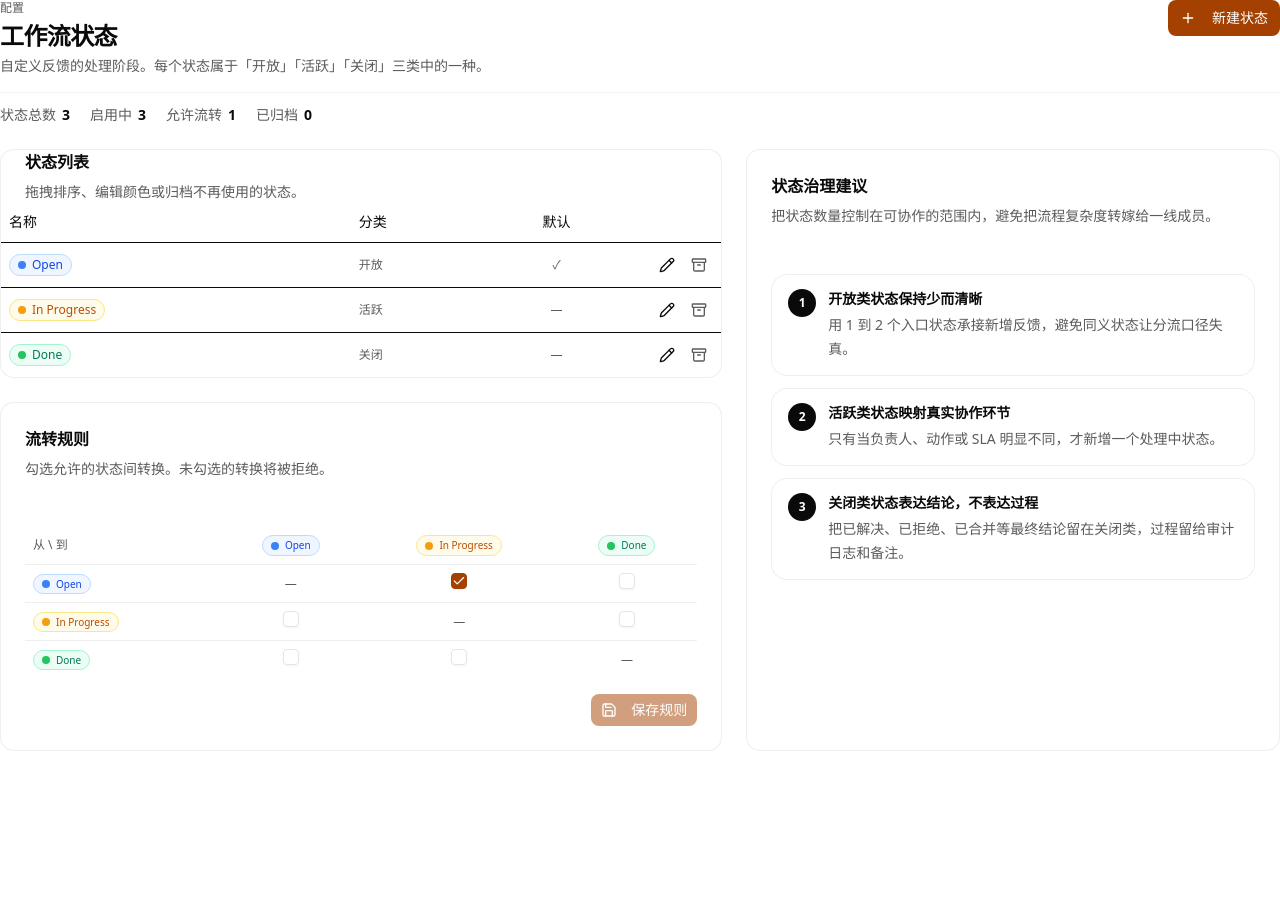
Test: WorkflowSettingsPage › dismisses archive dialog on cancel
Click the 1st button named "归档状态". click: (699, 264)
box: [685, 250, 713, 278]
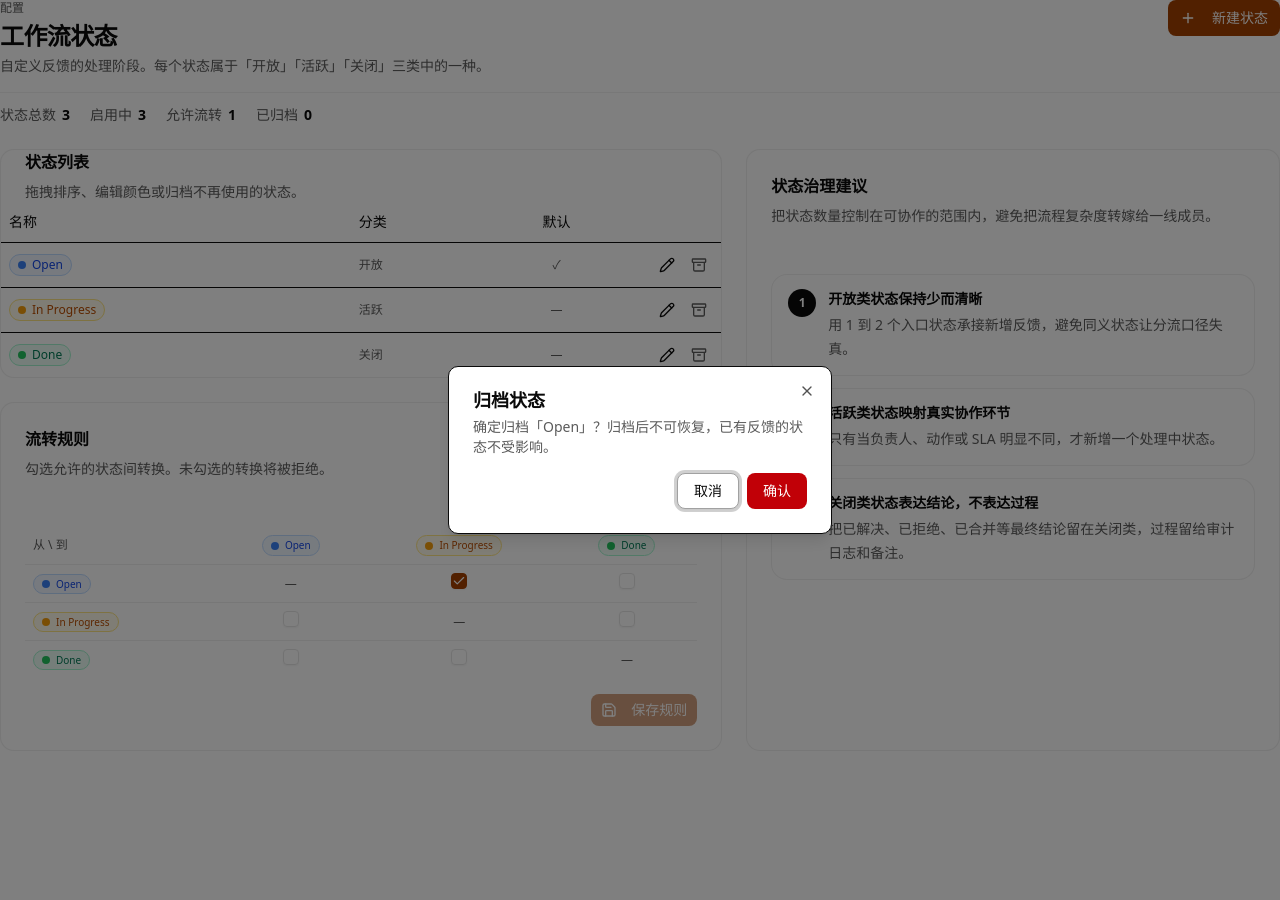
Click the button "取消". click: (708, 491)
box: [677, 473, 739, 509]
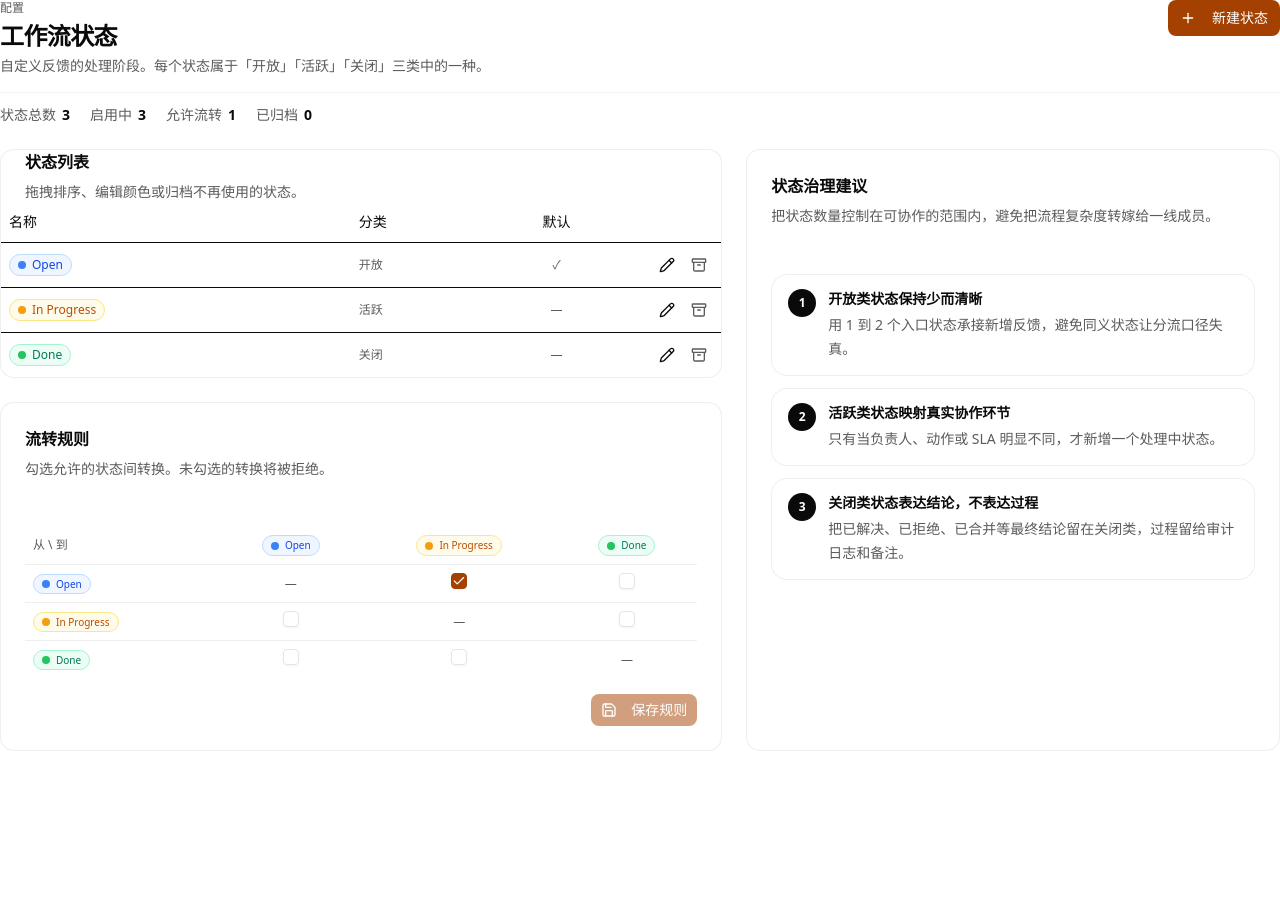
Now the dialog is gone
